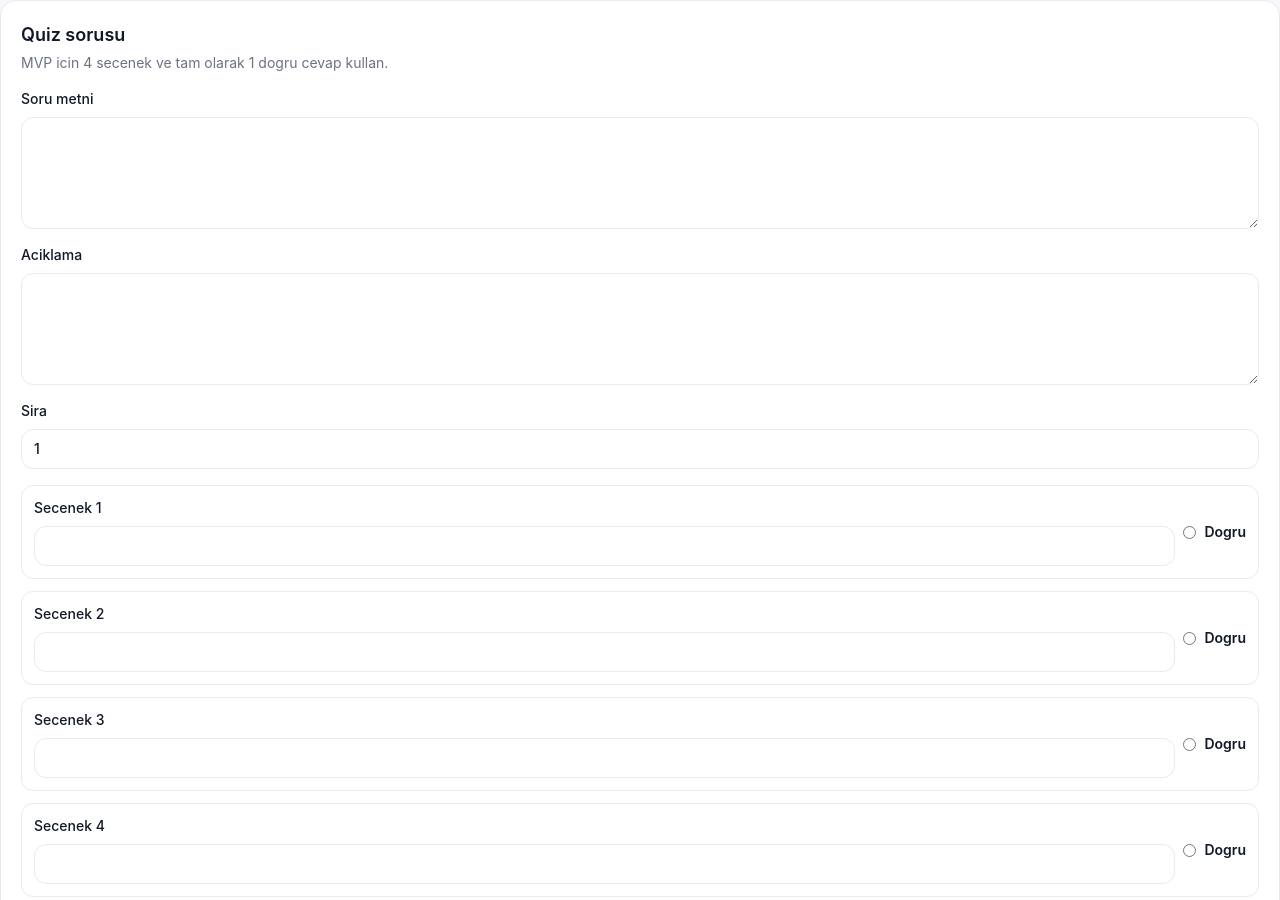
Scenario: Quiz editor requires one correct option
This screenshot has width=1280, height=900.
Type "Train test ayrimi neden yapilir?" into the text box labelled "Soru metni" at (640, 173), box [21,117,1259,229]
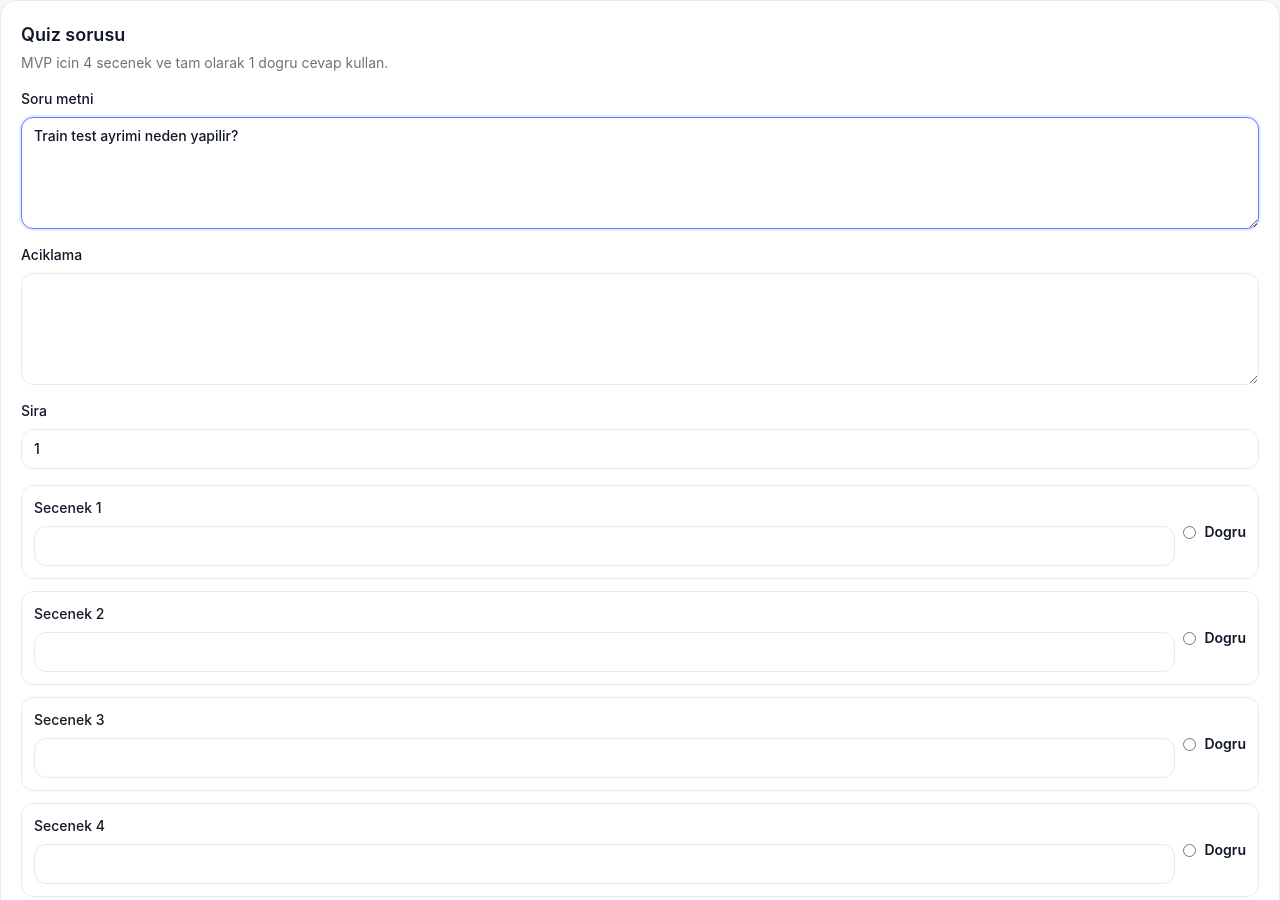
Type "Genelleme performansini olcmek icin" into the field labelled "Secenek 1" at (605, 546), box [34,526,1176,566]
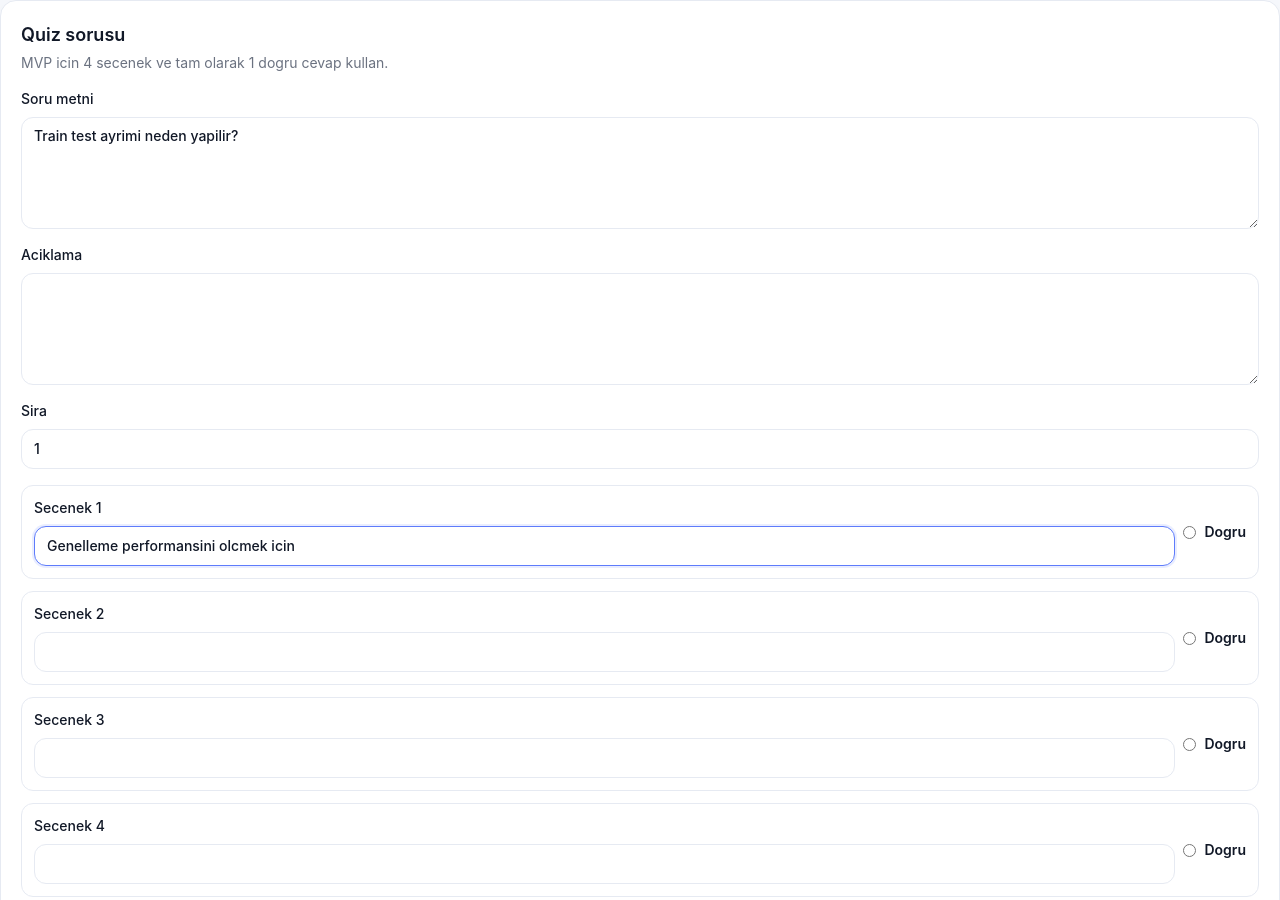
Type "Modeli ezberletmek icin" into the field labelled "Secenek 2" at (605, 652), box [34,632,1176,672]
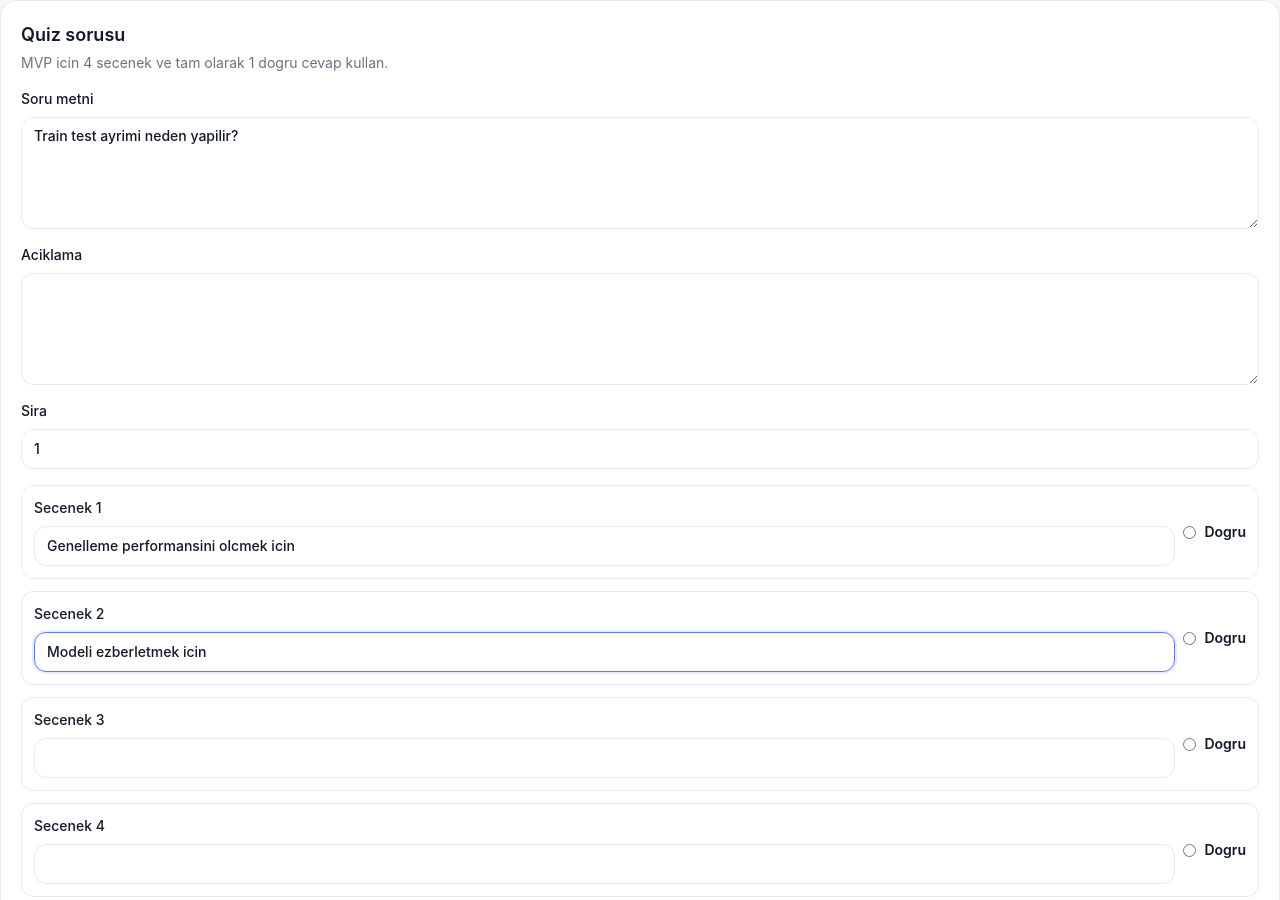
Type "Veriyi silmek icin" into the field labelled "Secenek 3" at (605, 758), box [34,738,1176,778]
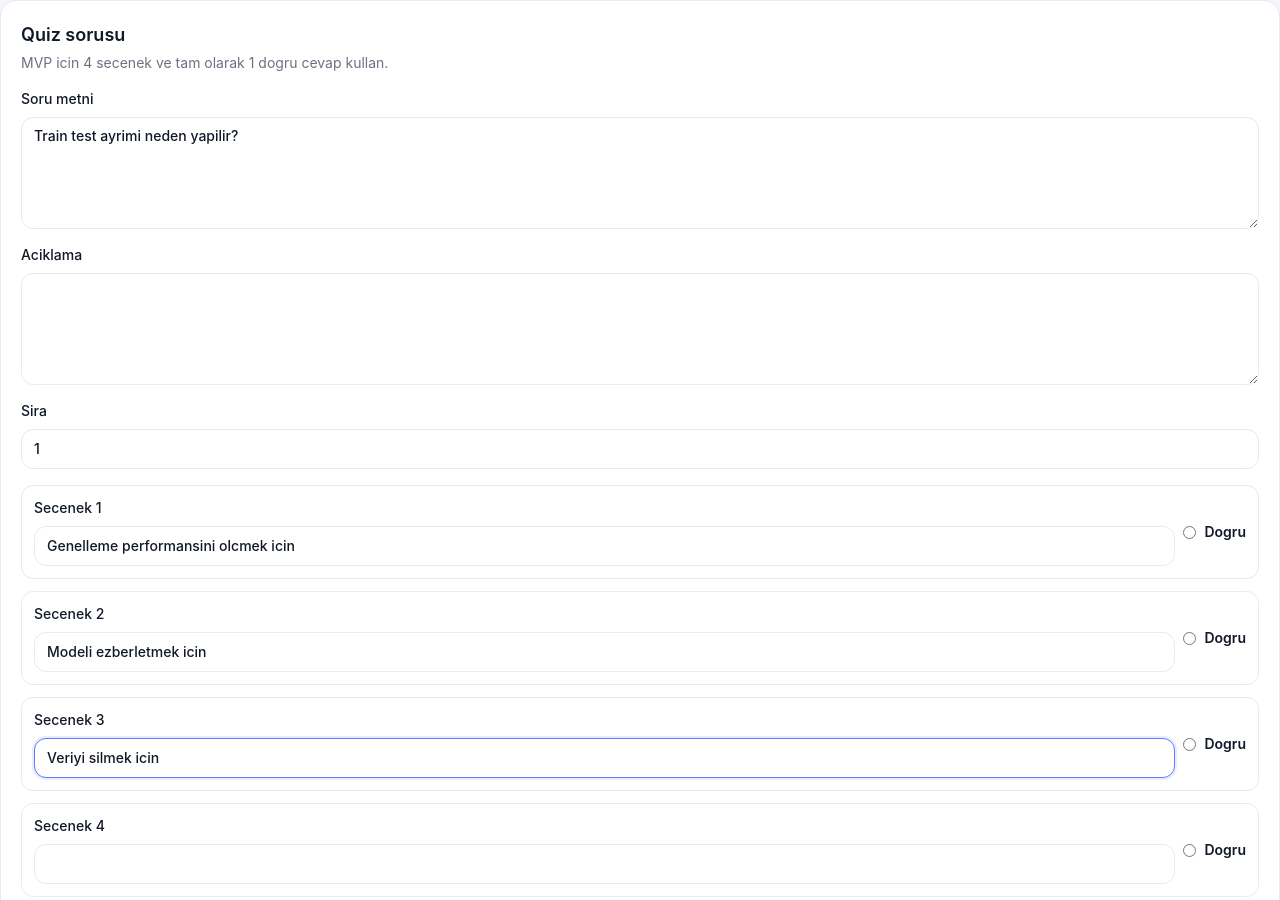
Type "CSS yazmak icin" into the field labelled "Secenek 4" at (605, 864), box [34,844,1176,884]
(page scrolled)
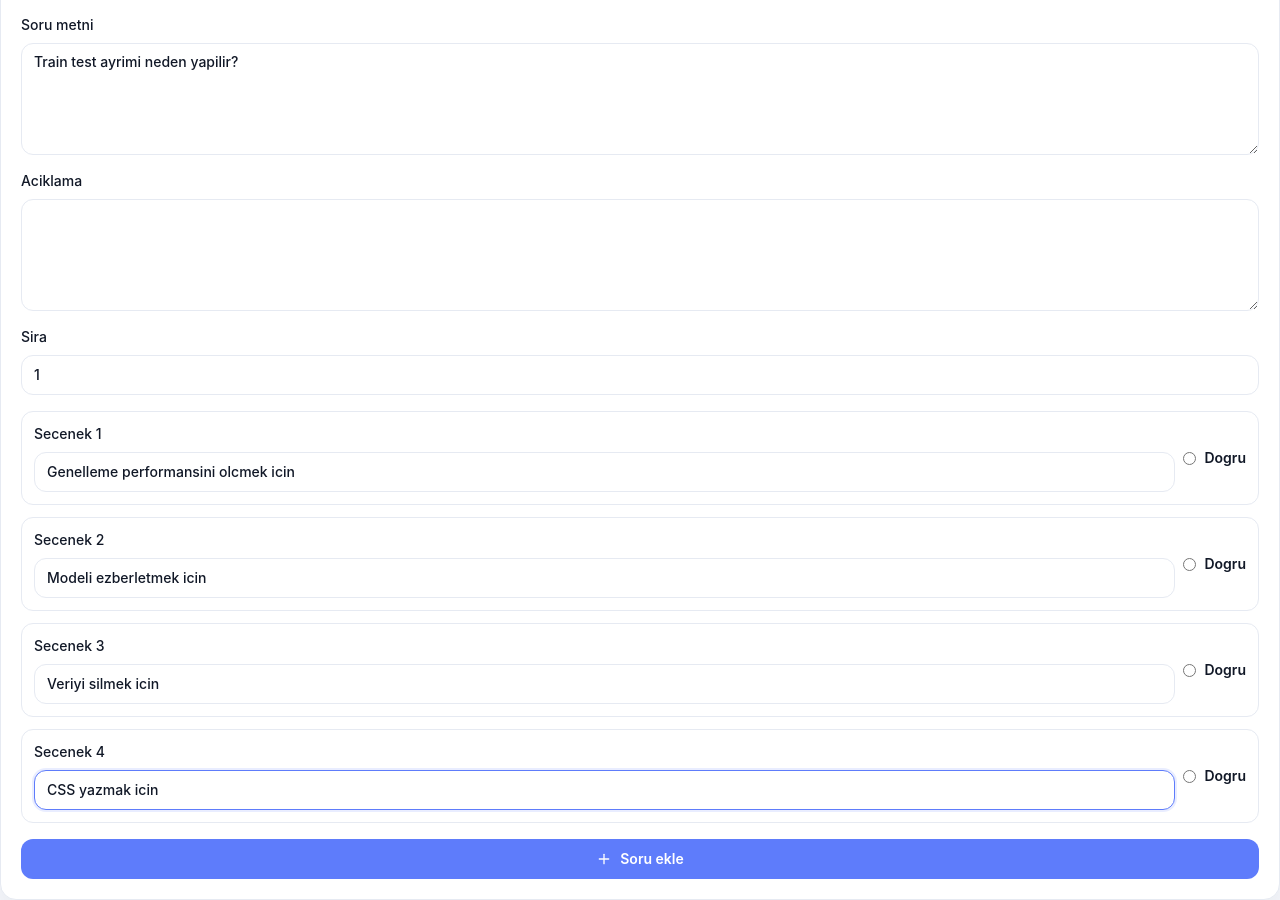
Click the button "Soru ekle" at (640, 859), box [21,839,1259,879]
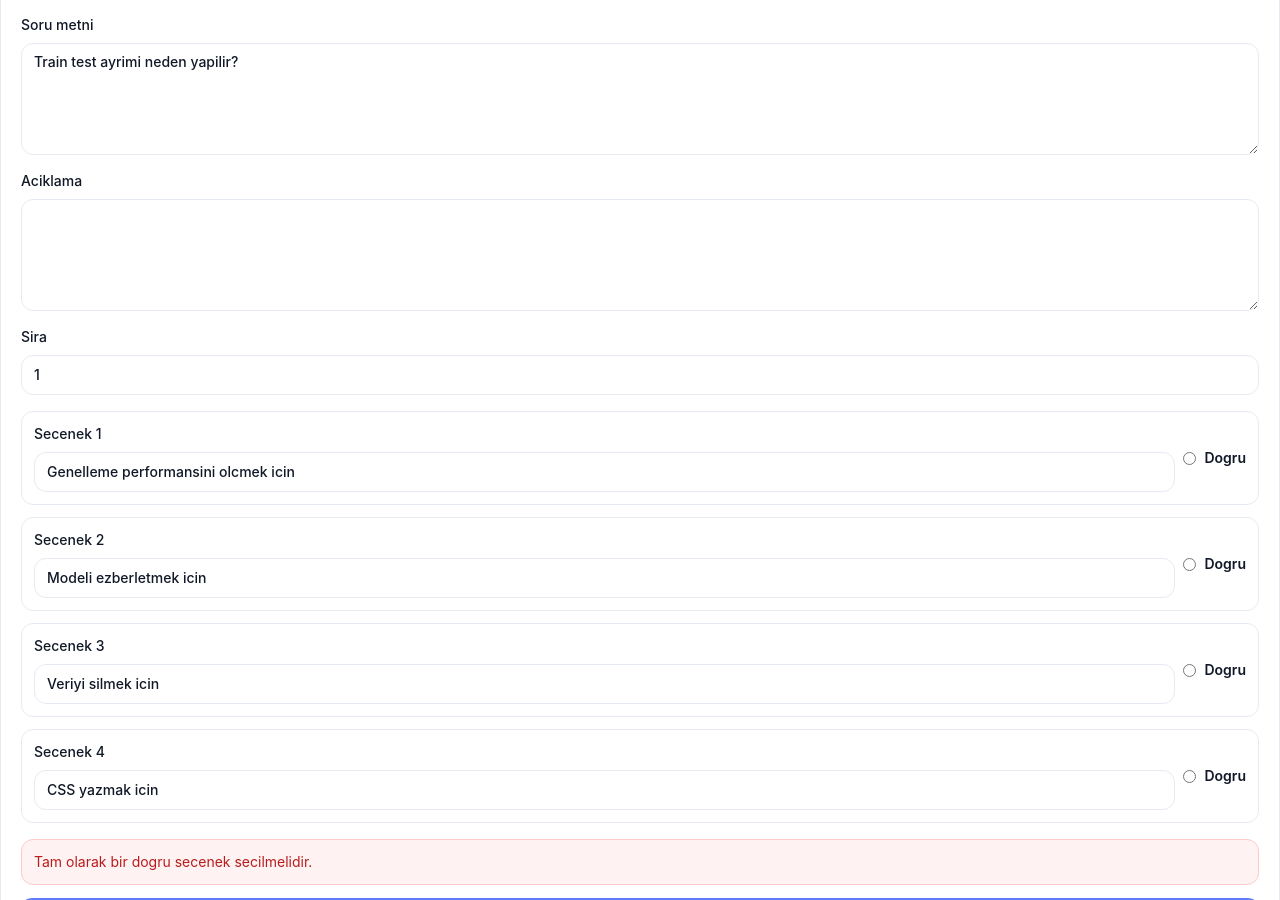
Result: the message reads "Tam olarak bir dogru secenek secilmelidir." at [34,853,312,870]
